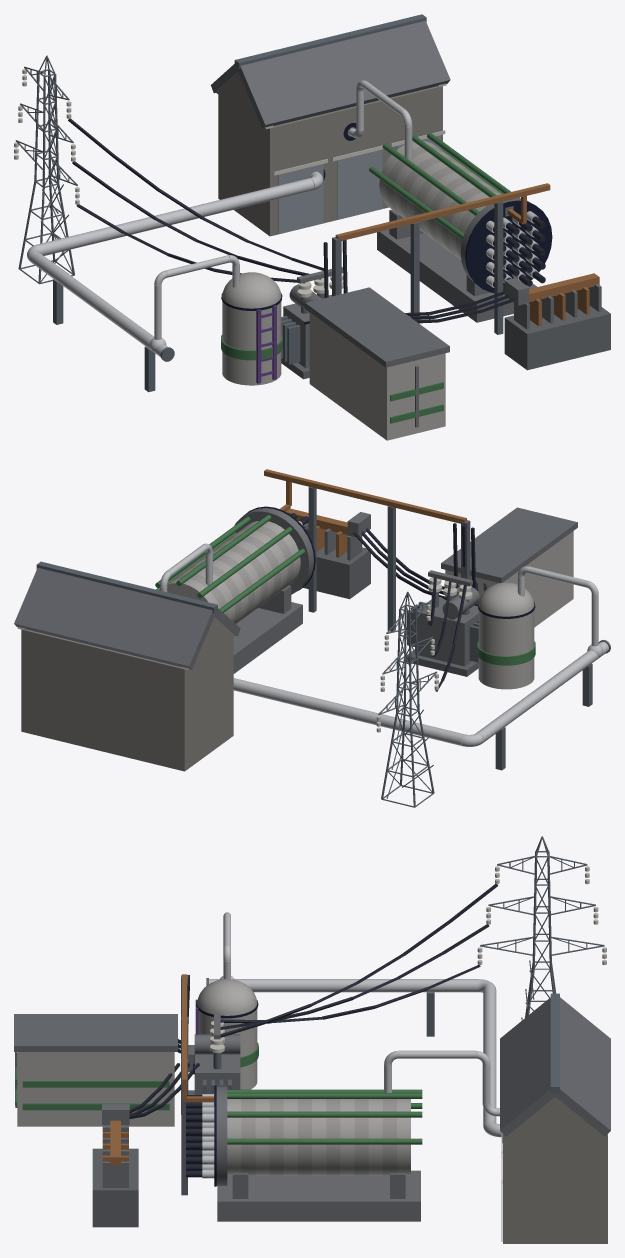
Rendered from electrolyser_lvl1.glb.
The picture shows the model from 3 angles, top to bottom: view 1: azimuth 30°, elevation 25°; view 2: azimuth 150°, elevation 25°; view 3: azimuth 270°, elevation 25°; orthographic projection. The views are drawn at different scales.
Parts seen in each view (by area): view 1: electrolyser; view 2: electrolyser; view 3: electrolyser.
Boxes of the visible parts, left/top/right/bottom form: electrolyser: left=14, top=14, right=610, bottom=440; electrolyser: left=14, top=469, right=610, bottom=807; electrolyser: left=14, top=836, right=610, bottom=1243.
Bounding box in the file's own units: 0.7567 × 0.3608 × 0.8836.
